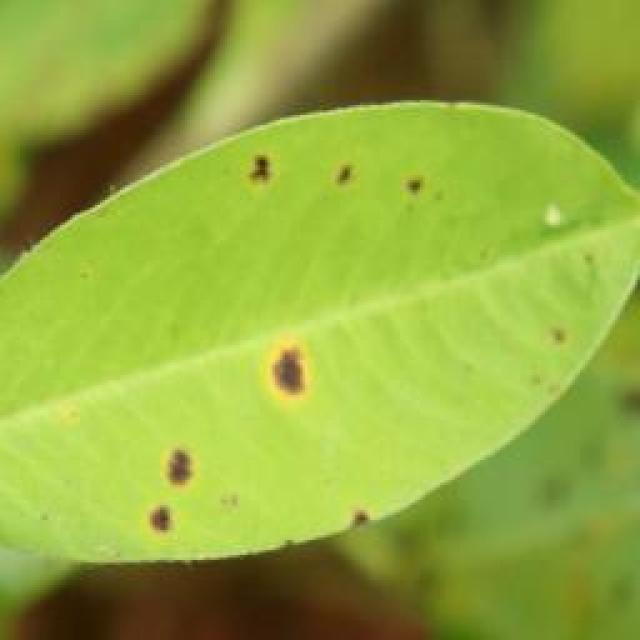Sigatoka: (140, 413, 210, 528), (236, 119, 319, 205), (258, 318, 330, 416), (319, 156, 434, 214), (325, 466, 370, 530)
